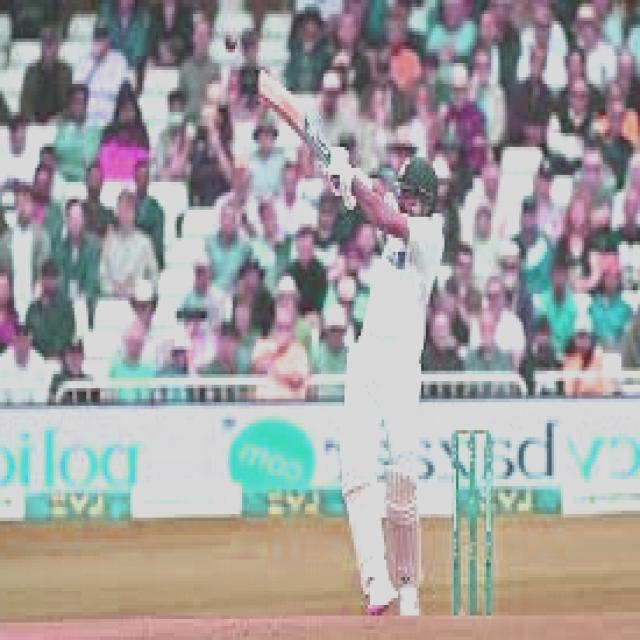toe: (256, 69, 264, 104)
